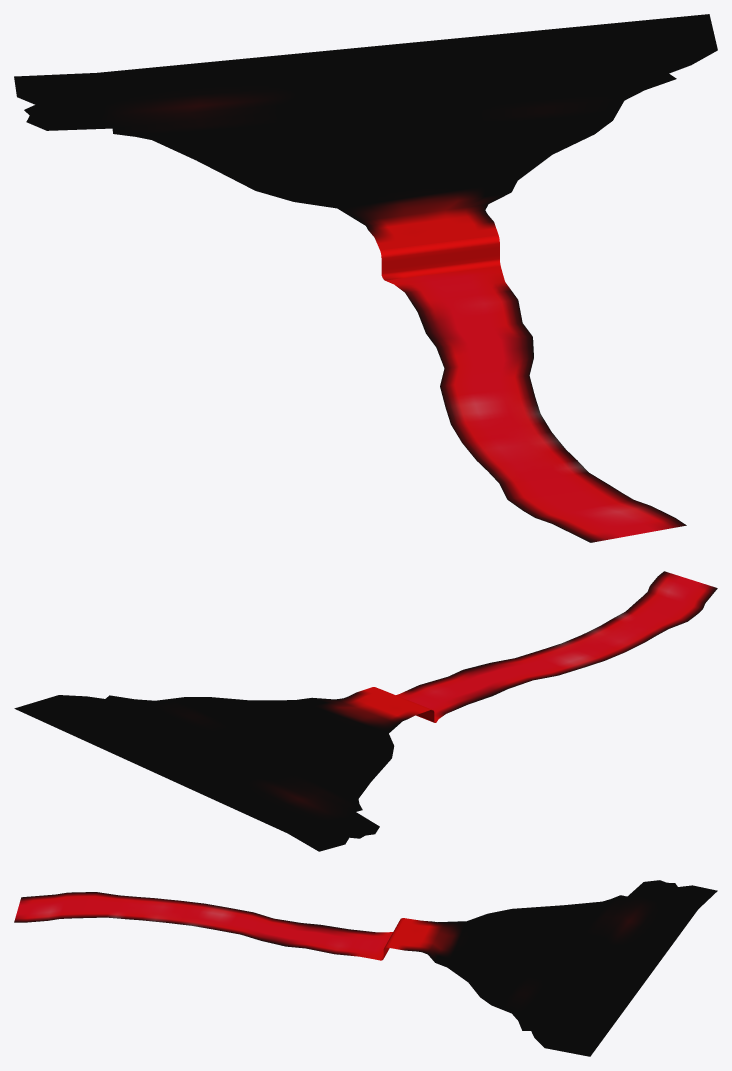
The model's file is mesh_River_Gruop.fbx.
The picture shows the model from 3 angles, top to bottom: view 1: azimuth 30°, elevation 25°; view 2: azimuth 150°, elevation 25°; view 3: azimuth 270°, elevation 25°; orthographic projection. The views are drawn at different scales.
Visible parts, largest first — view 1: mesh_RIver_Pool, mesh_RIver, mesh_RIver_WaterFall; view 2: mesh_RIver_Pool, mesh_RIver; view 3: mesh_RIver_Pool, mesh_RIver.
Part boxes in pixels (x1=…): mesh_RIver_Pool: x1=14, y1=14, x2=717, y2=250; mesh_RIver: x1=385, y1=266, x2=686, y2=542; mesh_RIver_WaterFall: x1=380, y1=235, x2=500, y2=280; mesh_RIver_Pool: x1=14, y1=687, x2=429, y2=851; mesh_RIver: x1=396, y1=571, x2=717, y2=722; mesh_RIver_Pool: x1=388, y1=880, x2=717, y2=1056; mesh_RIver: x1=14, y1=892, x2=392, y2=960.
Size of the model in its own units: 810 by 30.04 by 1356.
